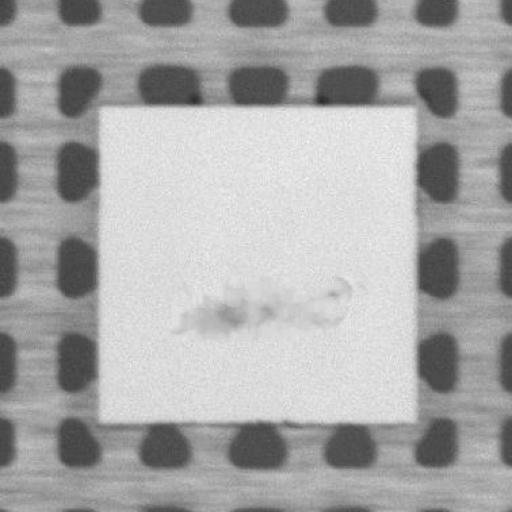DIE_INK: (162, 273, 355, 330)
